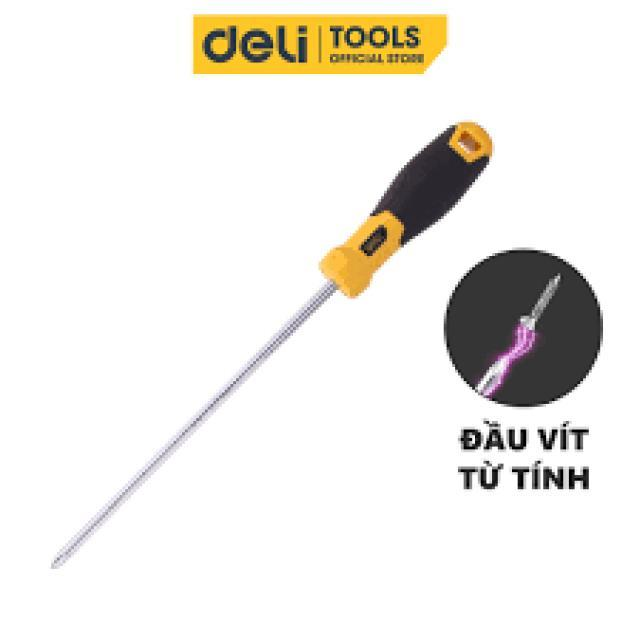screwdriver: (44, 111, 494, 575)
